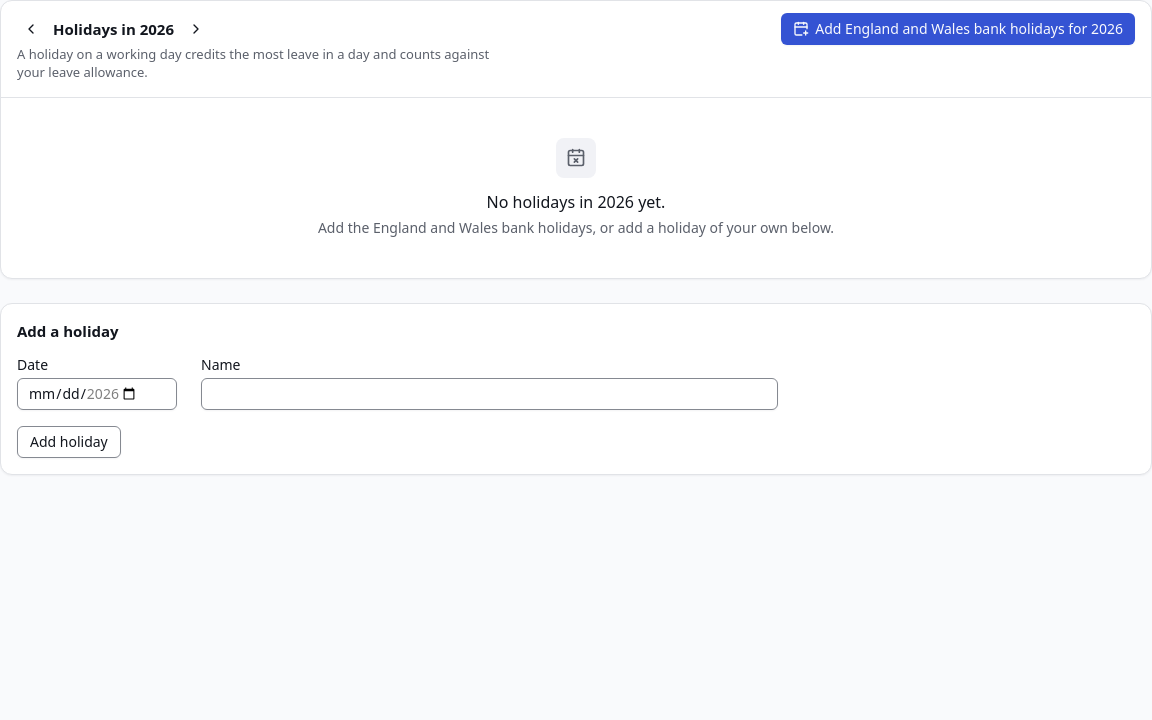
Test: HolidaysTab › says so when the year already has every bank holiday
Click the button "Add England and Wales bank holidays for 2026": (958, 29) [781,13,1135,45]
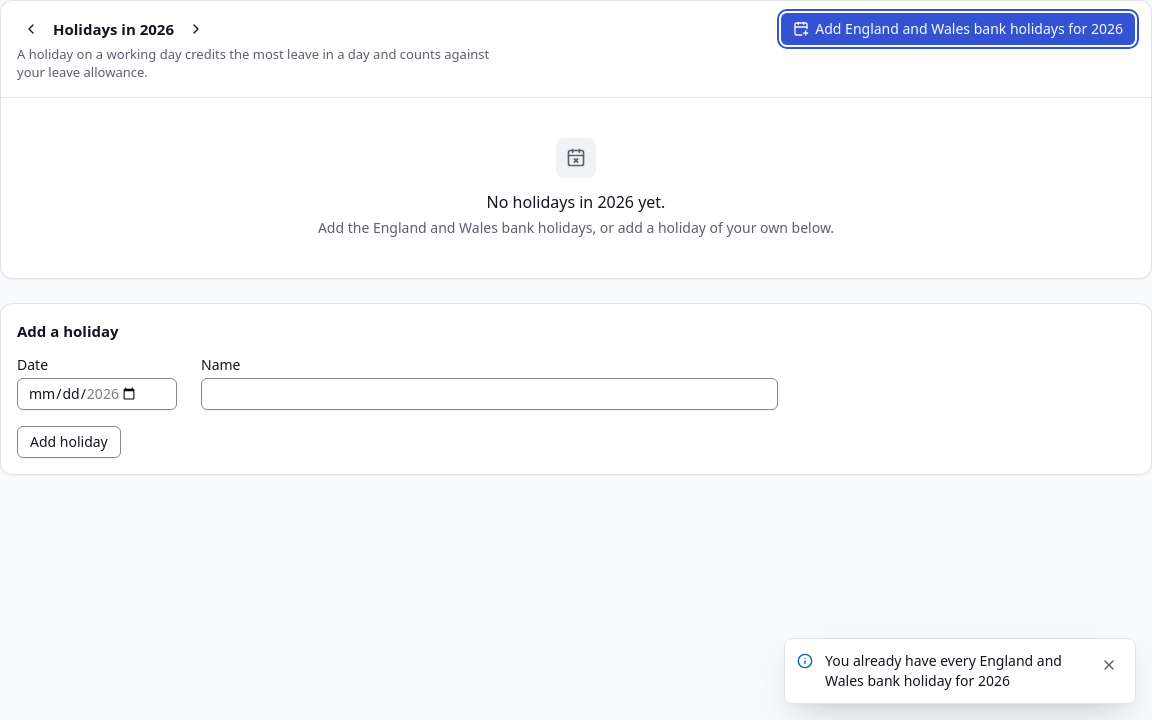
Now the text "You already have every England and Wales bank holiday for 2026" is shown, box [825,651,1083,691]
